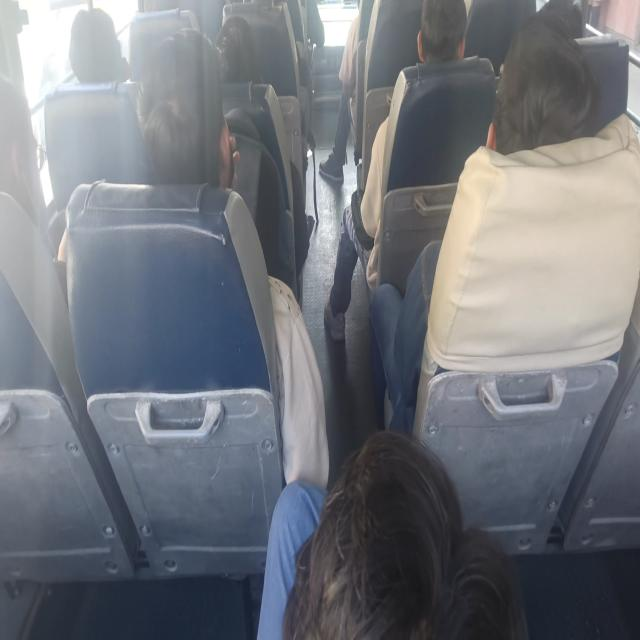person: (368, 7, 602, 436), (135, 26, 330, 488), (256, 428, 527, 638), (323, 0, 473, 342), (135, 27, 240, 190), (487, 11, 601, 154), (0, 74, 62, 260), (318, 2, 362, 184), (68, 7, 130, 83), (214, 15, 263, 84)
